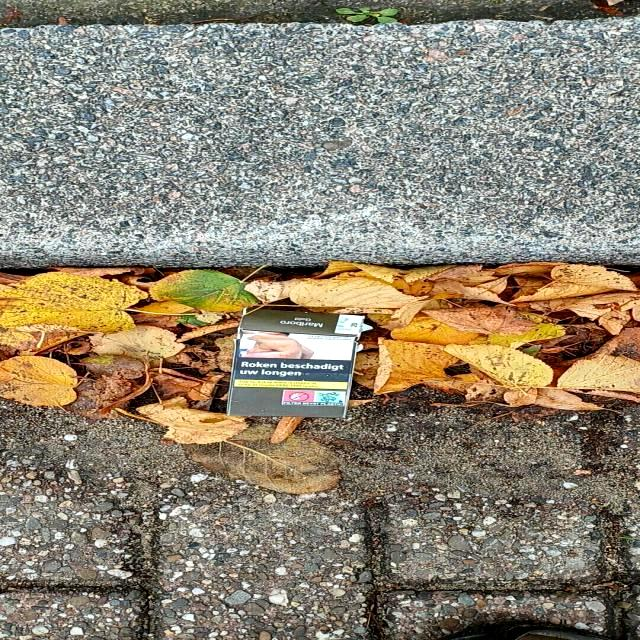Paper: (222, 305, 374, 419)
